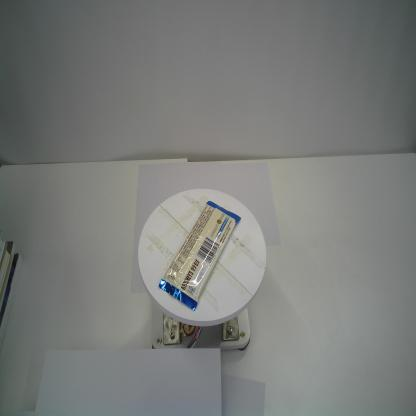Chocolate: (158, 198, 241, 310)
